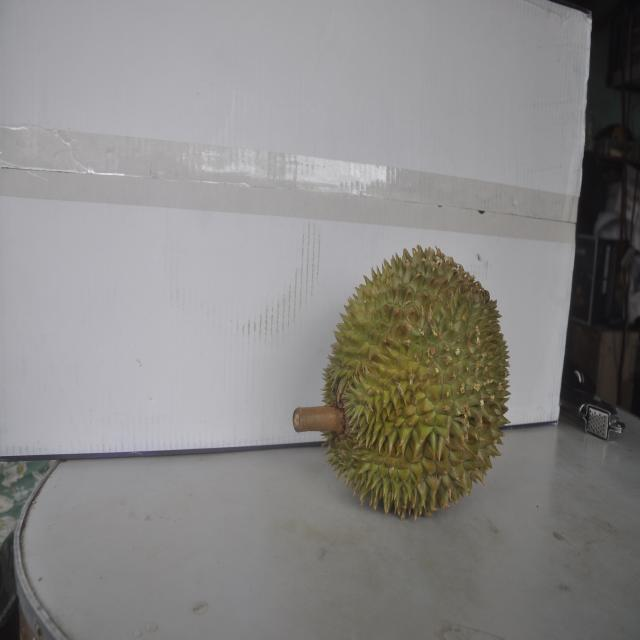mature: (321, 242, 513, 521)
